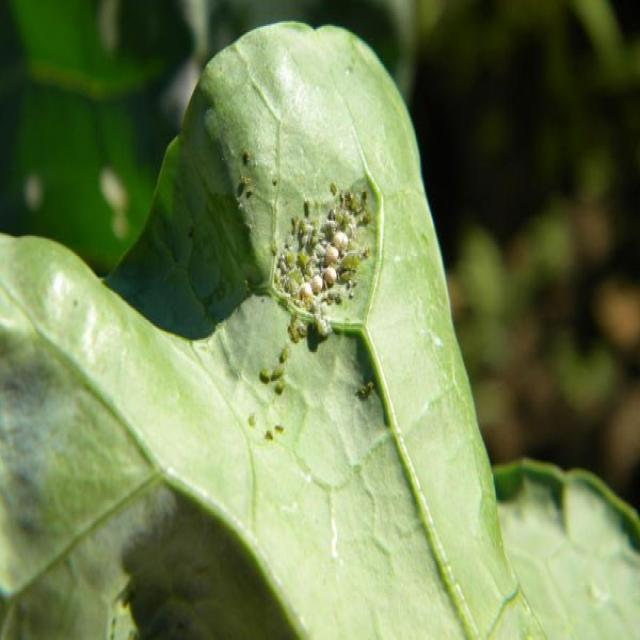Cutworm: (273, 200, 362, 325)
